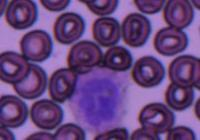N: (69, 68, 127, 132)
